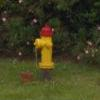Hydrant: (27, 19, 59, 76)
